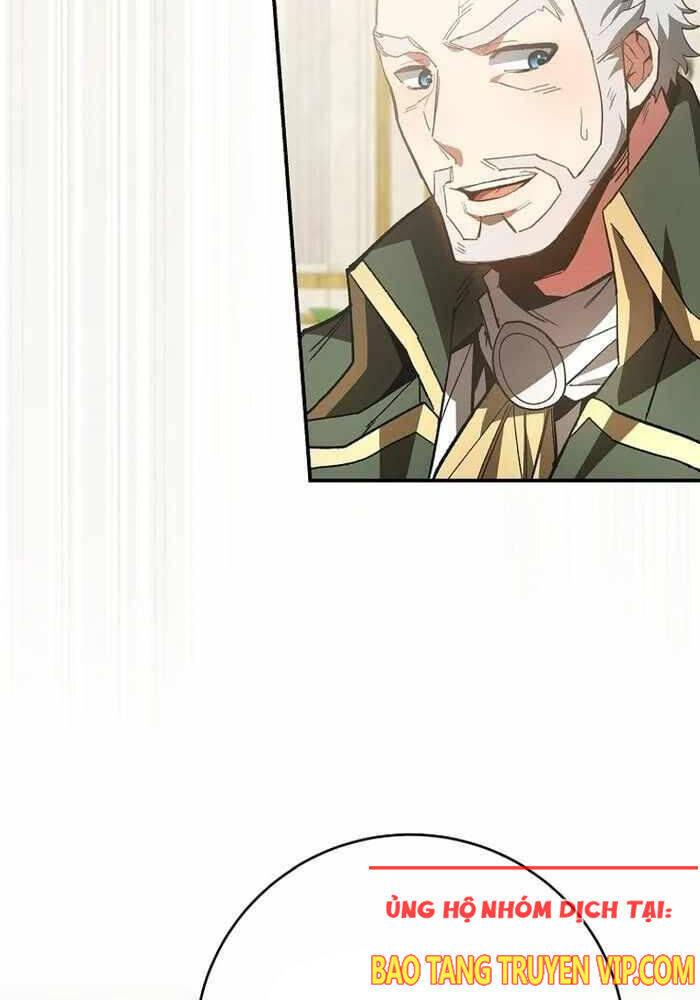quangcao: (367, 864, 700, 1000)
